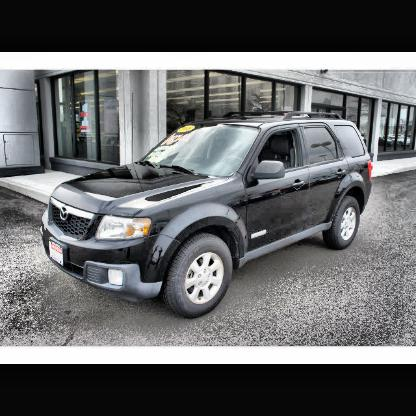Mazda Tribute SUV 2011: (40, 109, 373, 320)
